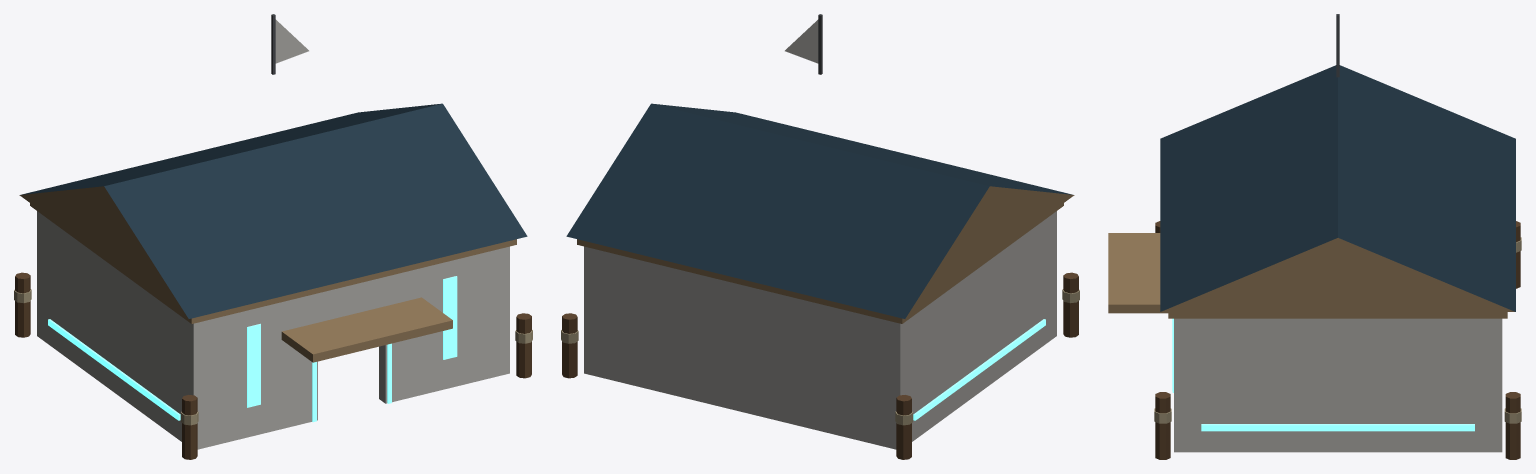
Rendered from shaddai_dist_ocean_b2_v01.glb.
3 renders of one model, left to right at view 1: azimuth 30°, elevation 25°; view 2: azimuth 150°, elevation 25°; view 3: azimuth 270°, elevation 25°, orthographic. The views are drawn at different scales.
Parts seen in each view (by area): view 1: shaddai_dist_ocean_b2; view 2: shaddai_dist_ocean_b2; view 3: shaddai_dist_ocean_b2.
Part boxes in pixels (x1=…): shaddai_dist_ocean_b2: x1=14, y1=14, x2=532, y2=459; shaddai_dist_ocean_b2: x1=561, y1=14, x2=1079, y2=459; shaddai_dist_ocean_b2: x1=1108, y1=14, x2=1521, y2=459.
Bounding box in the file's own units: 15.43 × 14.38 × 15.11.
